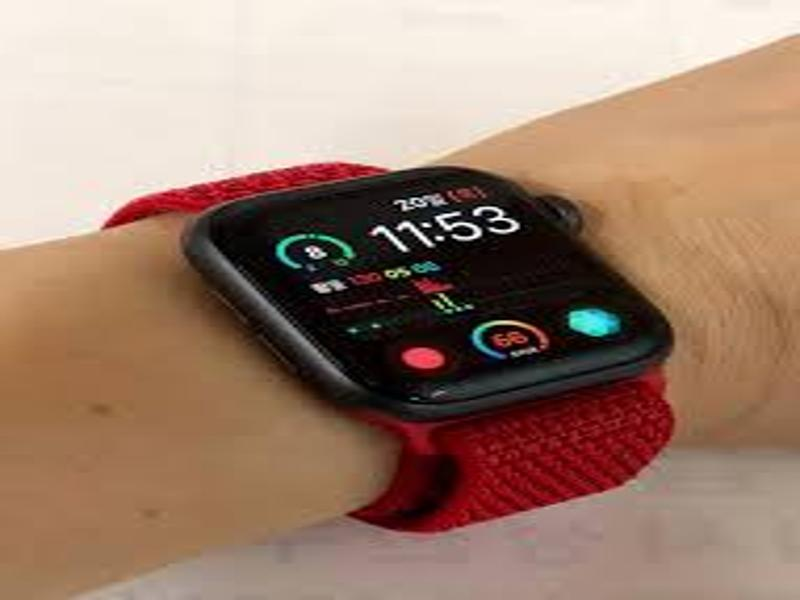watch: (101, 158, 677, 539)
